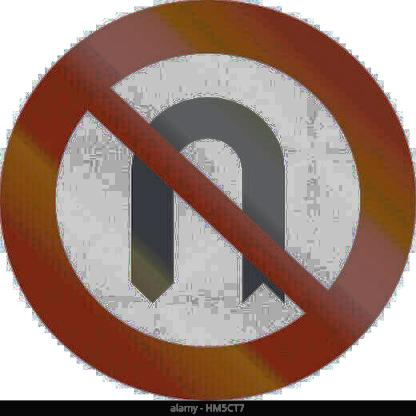No U-turn: (2, 0, 416, 401)
